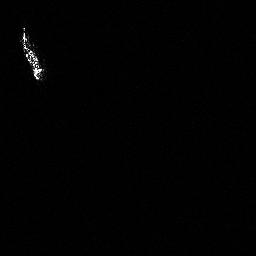ship: (17, 24, 51, 84)
